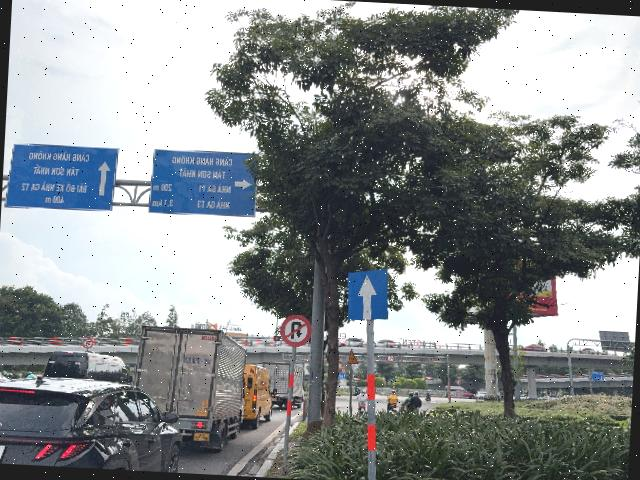cam-quay-dau-xe: (279, 314, 312, 348)
duong-mot-chieu: (345, 267, 391, 323)
